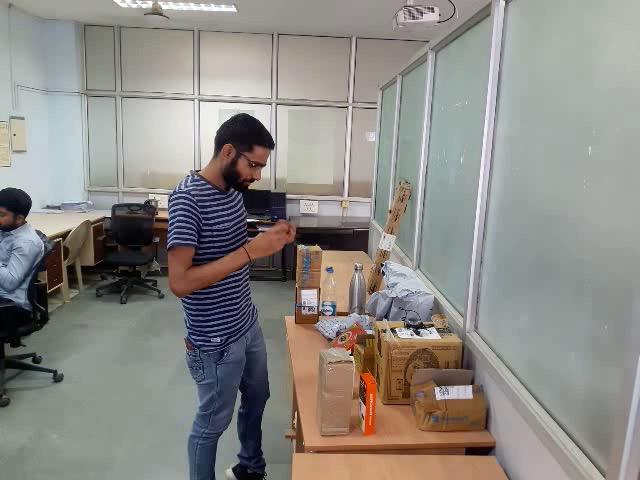Normal: (54, 56, 611, 480)
